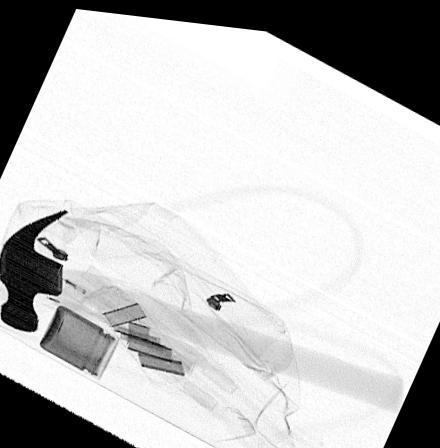Hammer: (0, 207, 402, 404)
